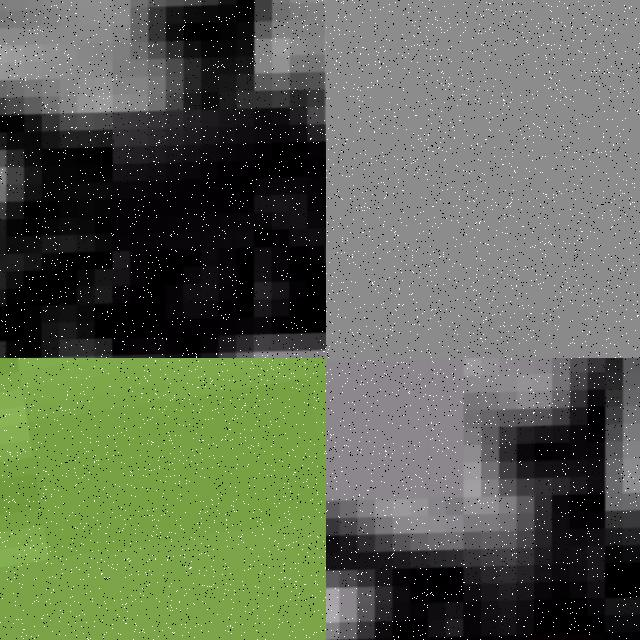drone: (0, 0, 326, 358), (326, 358, 640, 640)
